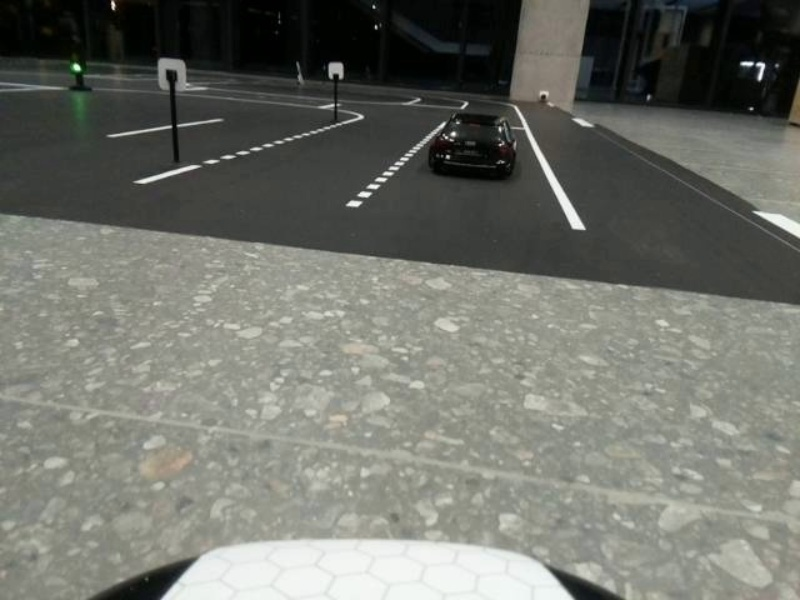car: (417, 103, 529, 183)
